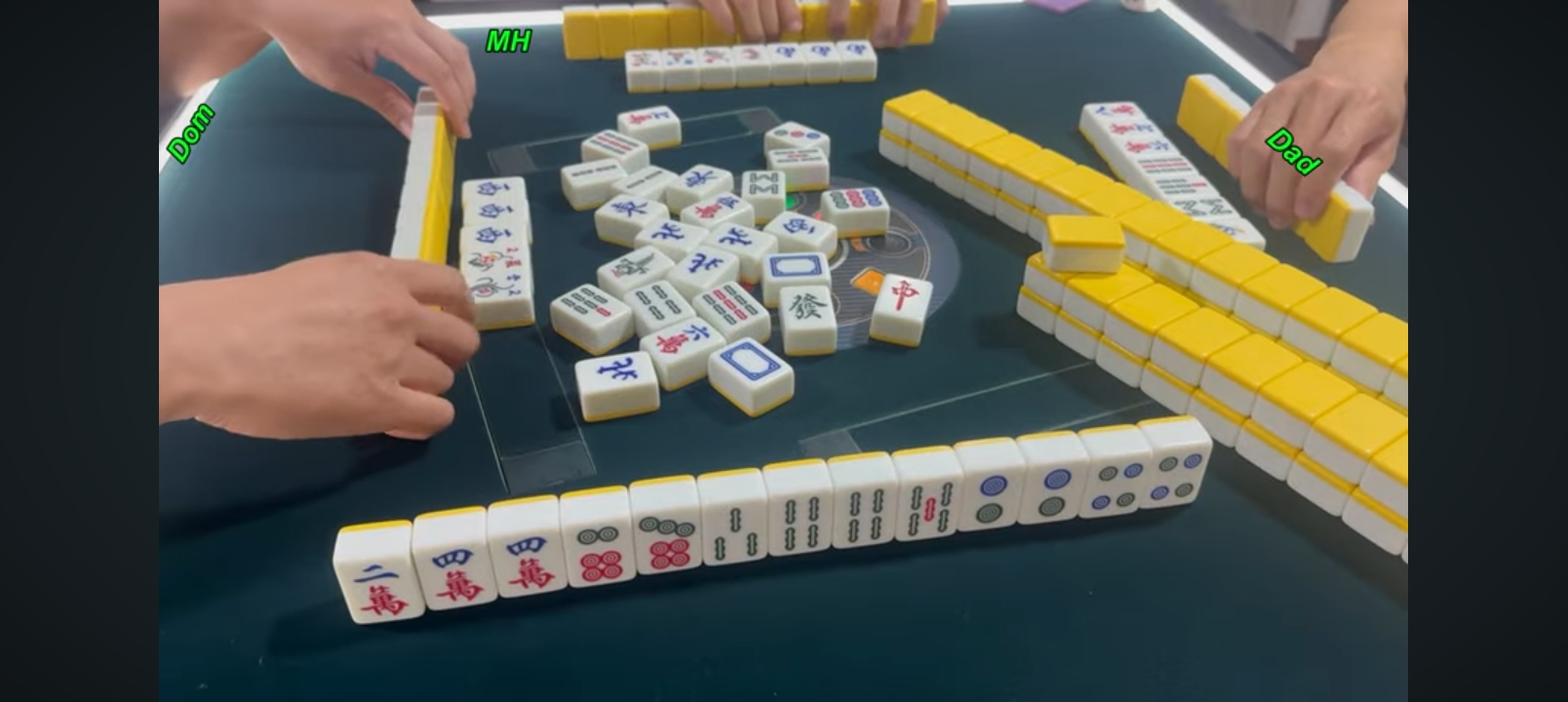TILE: (410, 544, 495, 607), (333, 559, 419, 621), (493, 531, 565, 597), (565, 524, 636, 584), (634, 514, 702, 575), (764, 495, 833, 552), (896, 477, 960, 538), (701, 503, 765, 563), (833, 485, 897, 545), (960, 469, 1024, 529), (1147, 446, 1210, 506), (1085, 457, 1148, 514), (1021, 465, 1085, 521)
